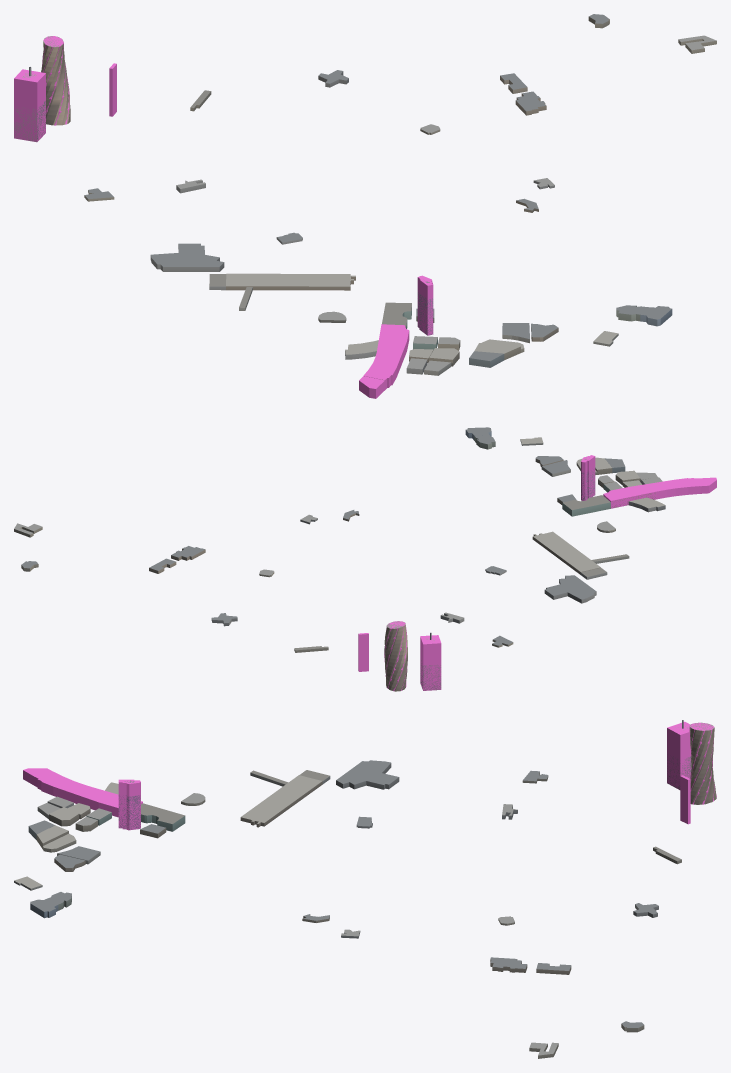
Rendered from bld_13_9.fbx.
3 renders of one model, top to bottom at view 1: azimuth 30°, elevation 25°; view 2: azimuth 150°, elevation 25°; view 3: azimuth 270°, elevation 25°, orthographic. The views are drawn at different scales.
Visible parts, largest first — view 1: bld_13_9_LOD0, bld_13_9_COL; view 2: bld_13_9_LOD0, bld_13_9_COL; view 3: bld_13_9_LOD0, bld_13_9_COL.
Boxes of the visible parts, x1=… form: bld_13_9_LOD0: x1=14, y1=14, x2=716, y2=380; bld_13_9_COL: x1=14, y1=36, x2=433, y2=398; bld_13_9_LOD0: x1=14, y1=427, x2=665, y2=691; bld_13_9_COL: x1=358, y1=455, x2=716, y2=691; bld_13_9_LOD0: x1=14, y1=720, x2=716, y2=1058; bld_13_9_COL: x1=23, y1=721, x2=716, y2=830.
Size of what is drawn, in the model's own units: 2046 by 235 by 2068.
